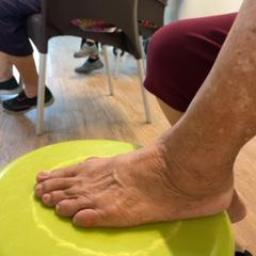Lateral View -Left Foot-: (22, 111, 248, 241)
